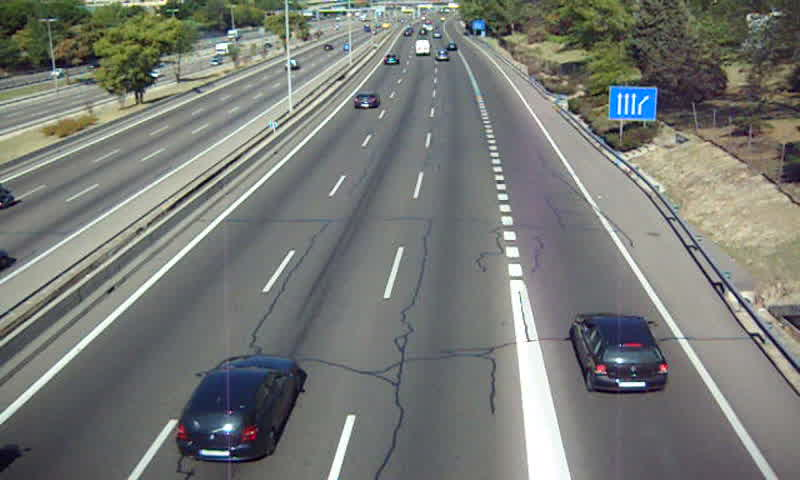car: (178, 357, 300, 459), (575, 315, 668, 393), (351, 92, 380, 111), (382, 52, 402, 64)
